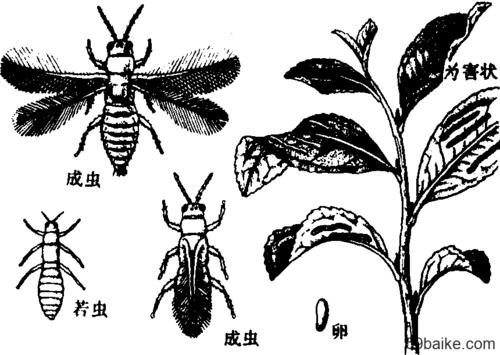Thripidae: (1, 1, 244, 177)
